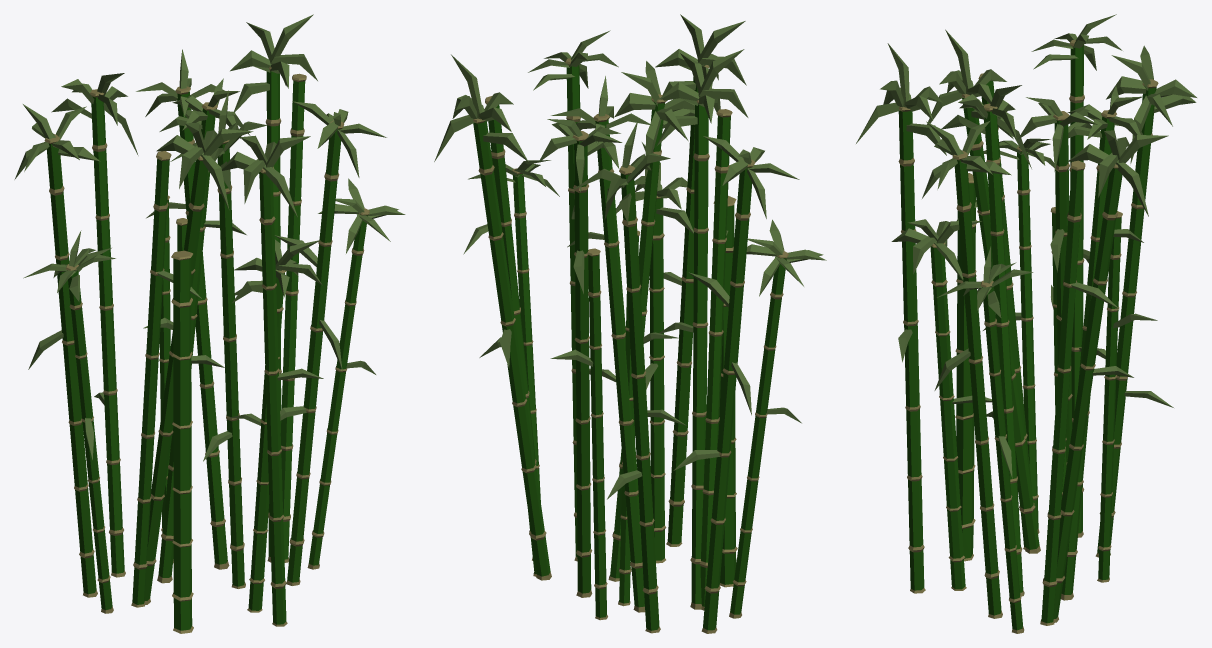
Rendered from Bambo_4 Asia.fbx.
3 renders of one model, left to right at view 1: azimuth 30°, elevation 25°; view 2: azimuth 150°, elevation 25°; view 3: azimuth 270°, elevation 25°, orthographic. The views are drawn at different scales.
Parts seen in each view (by area): view 1: Bambo_4; view 2: Bambo_4; view 3: Bambo_4.
Part boxes in pixels (bbox=[...]): Bambo_4: bbox=[14, 14, 405, 633]; Bambo_4: bbox=[434, 14, 826, 633]; Bambo_4: bbox=[856, 14, 1196, 633].
Size of the model in its own units: 1.62 by 2.26 by 1.33.
